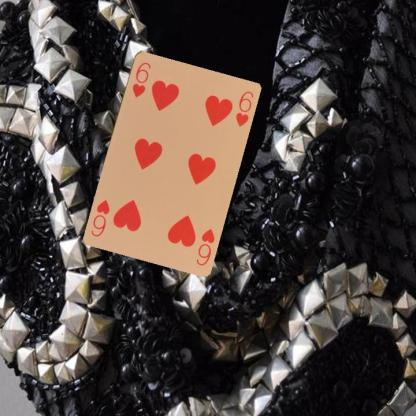6h: (193, 225, 216, 267), (129, 59, 152, 99)
